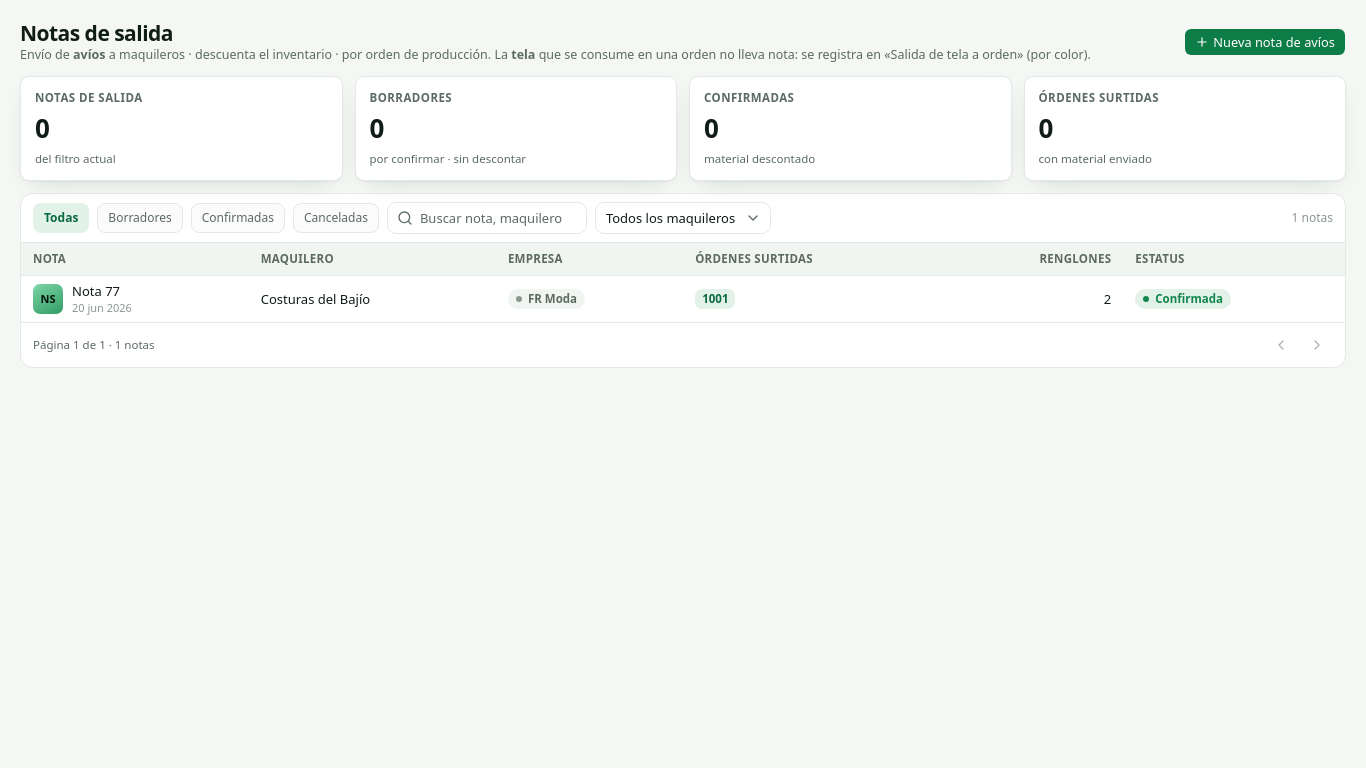
NotasSalidaPagina (F4-E5, re-vestida R9) › una nota confirmada NO ofrece Editar (solo Imprimir/Cancelar)
Step 1. Click the row with test id "nota-fila" → coordinates (89, 291), box [21,275,1345,322]
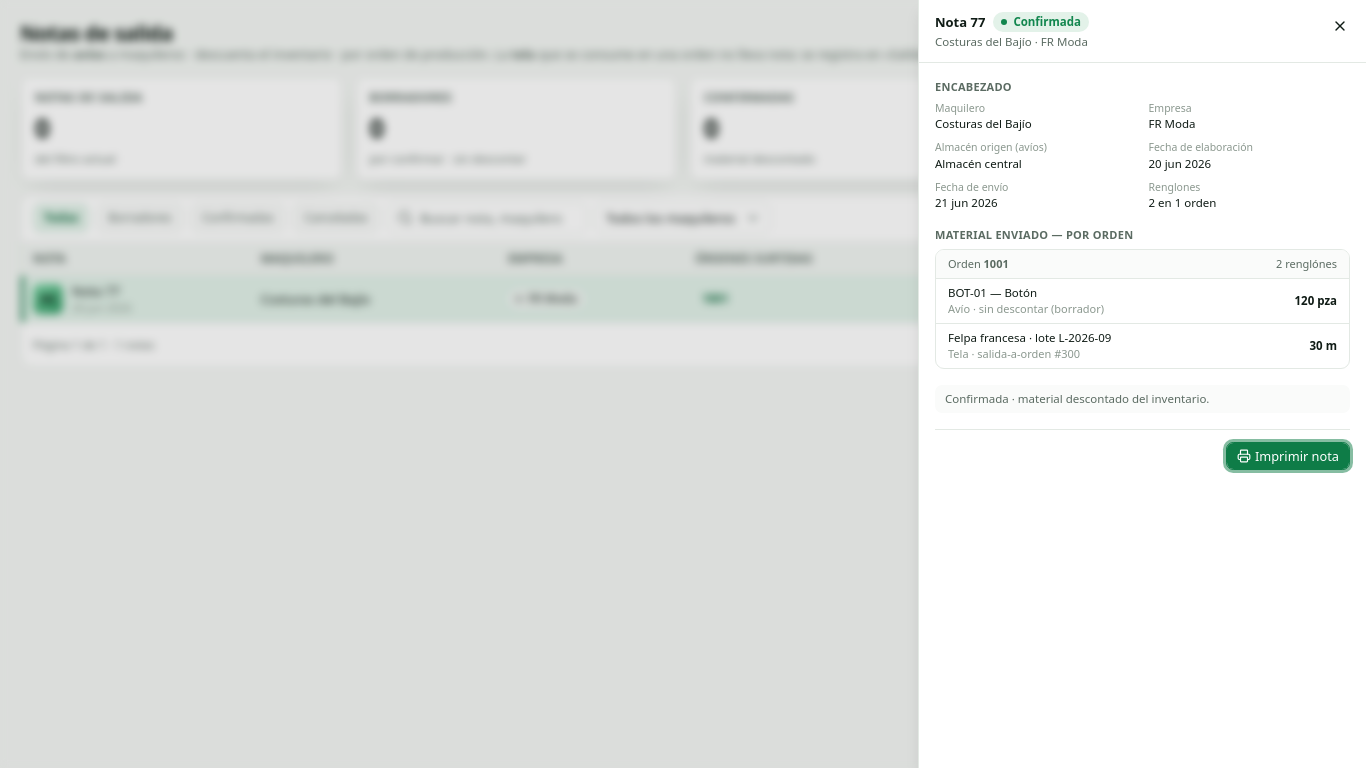
Expected: the button with test id "imprimir-nota" is shown, [1226,442,1350,470]
